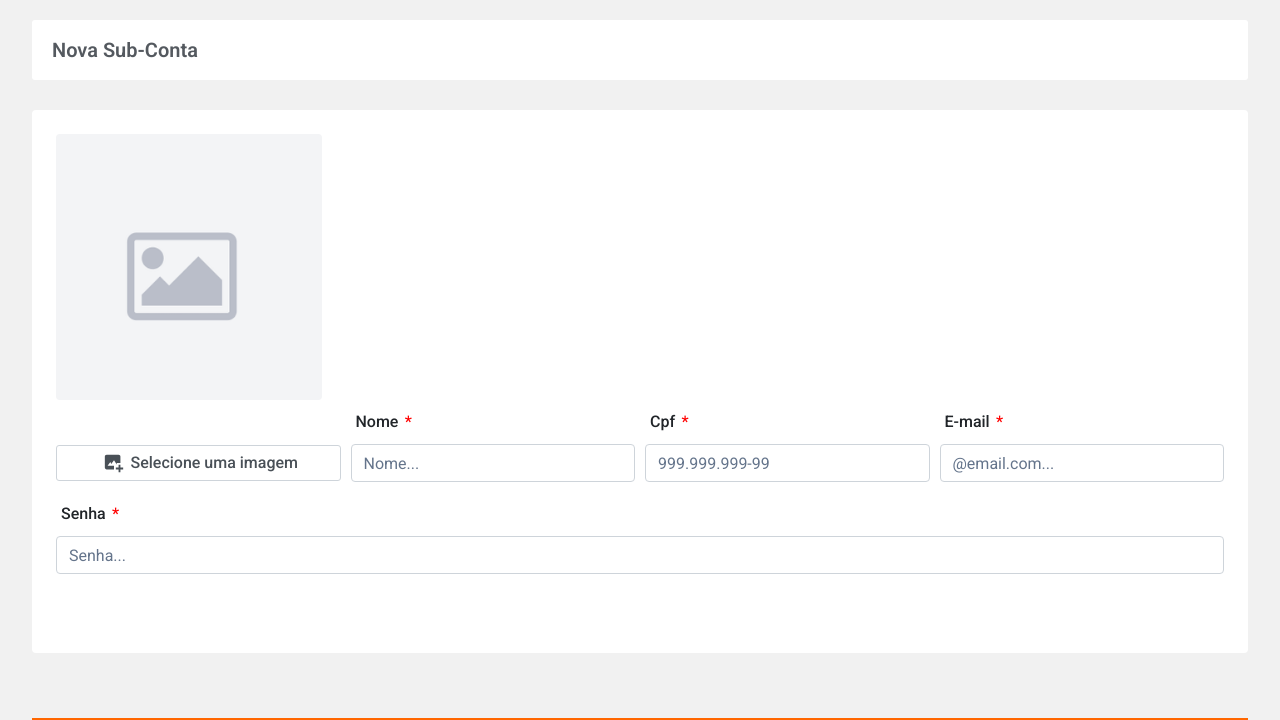
it: UsuariosCadastrar › aplica mascara de CPF ao digitar
Type "12345678901" into the field labelled "Cpf" at (787, 463), box x1=645 y1=444 x2=930 y2=482
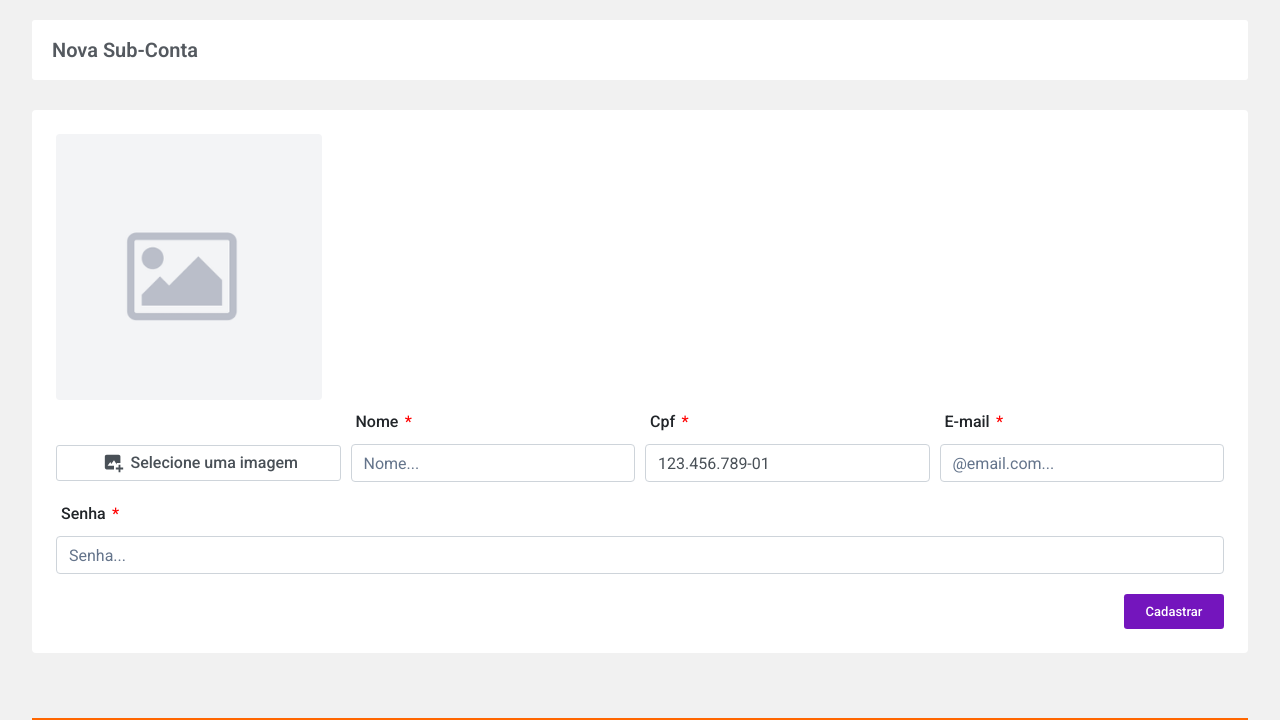
Now the field labelled "Cpf" holds "123.456.789-01", box x1=645 y1=444 x2=930 y2=482
